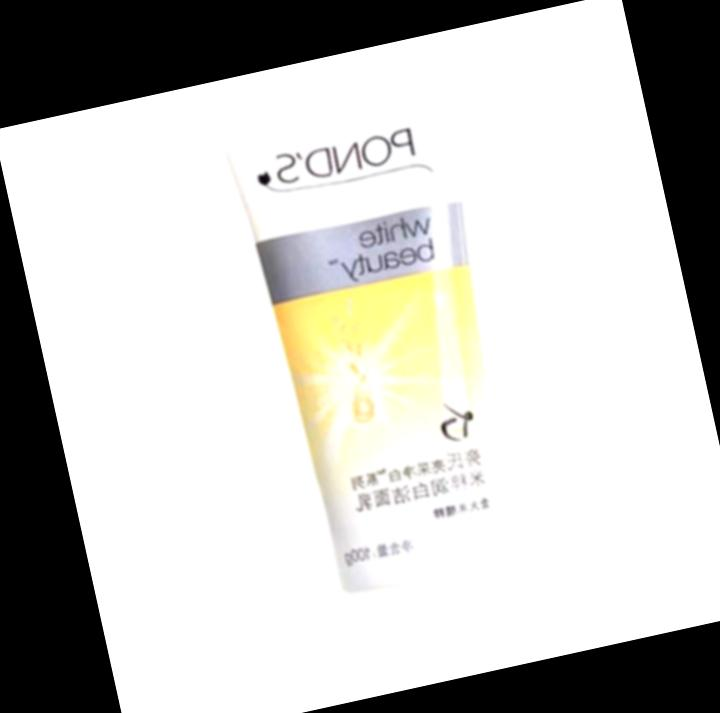cosmetic: (211, 59, 574, 682)
